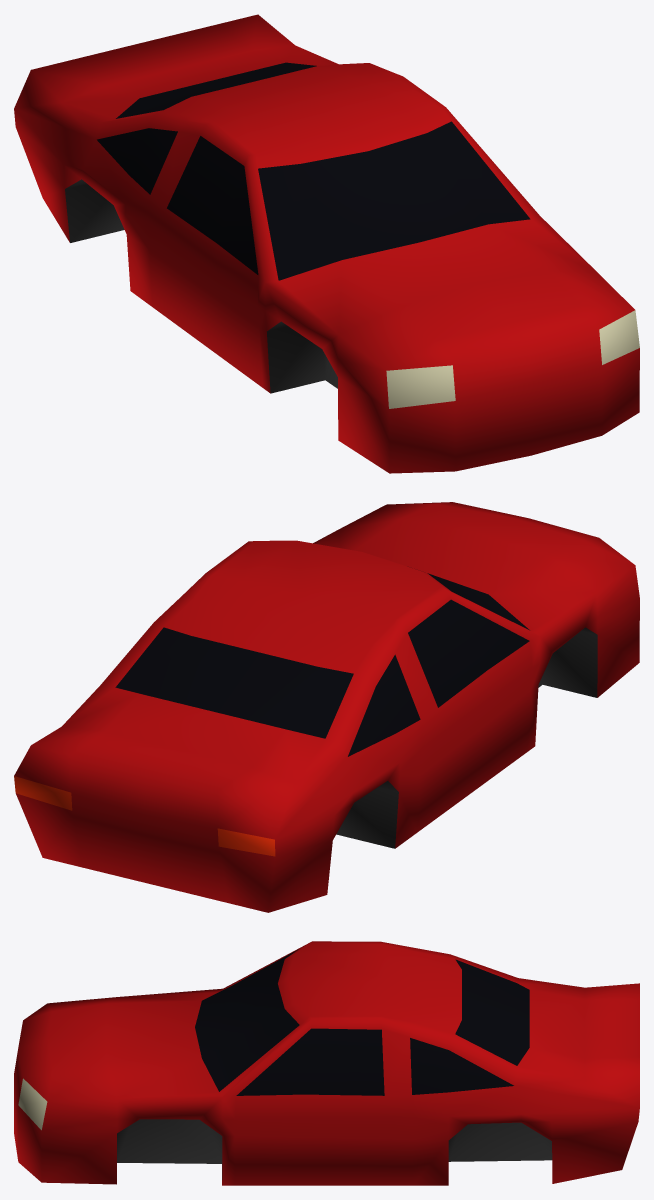
Rendered from car.obj.
The picture shows the model from 3 angles, top to bottom: view 1: azimuth 30°, elevation 25°; view 2: azimuth 150°, elevation 25°; view 3: azimuth 270°, elevation 25°; orthographic projection. The views are drawn at different scales.
Visible parts, largest first — view 1: Car; view 2: Car; view 3: Car.
Part boxes in pixels (box(x1,y1,x2,y2)): Car: box(14, 14, 639, 473); Car: box(14, 502, 639, 912); Car: box(14, 941, 639, 1185).
Bounding box in the file's own units: 1.68 × 1.12 × 4.1.
